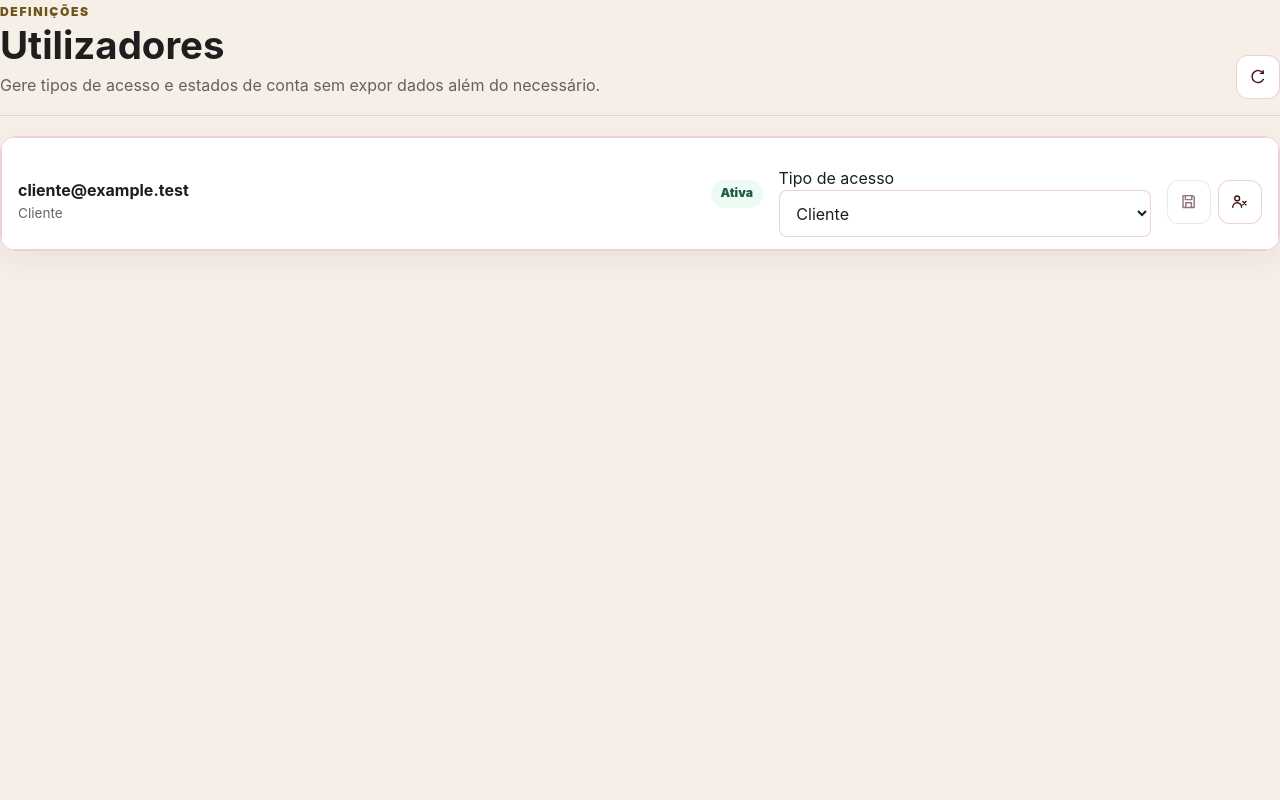
Scenario: AdminUsersPage › mantém linha, estado e modal quando a desativação falha
Check: the heading "cliente@example.test" is shown, box [18, 180, 189, 200]
Click the button named "Desativar conta" at (1240, 202), box [1218, 180, 1262, 224]
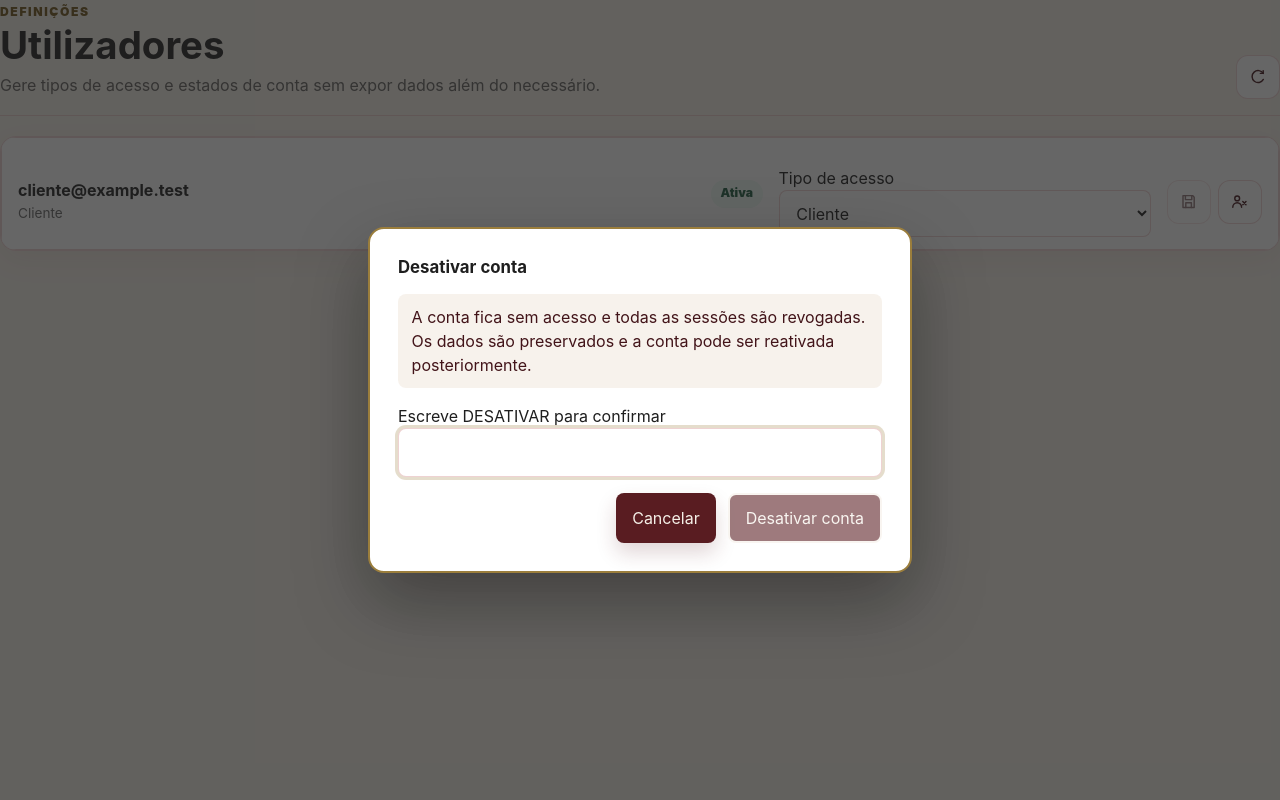
Type "DESATIVAR" into the field labelled "Escreve DESATIVAR para confirmar" at (640, 452), box [398, 428, 882, 477]
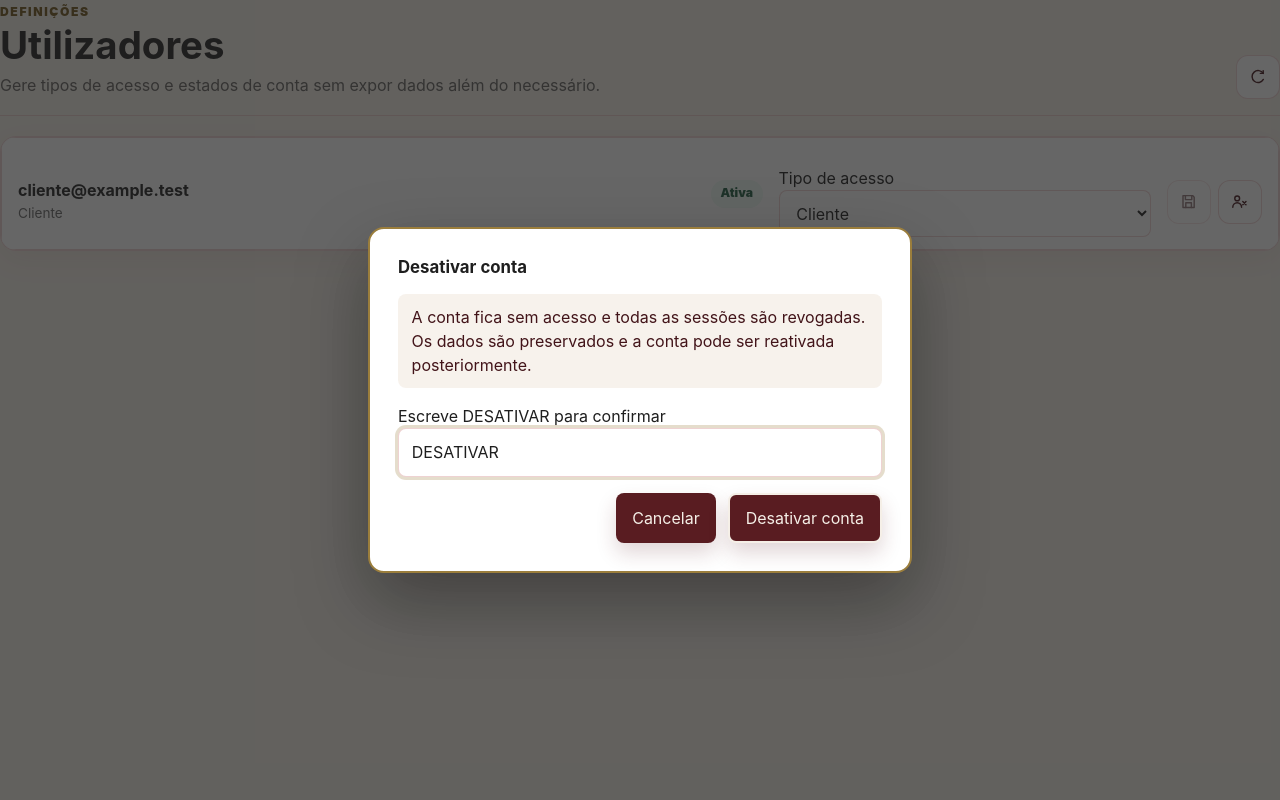
Click the button "Desativar conta" at (805, 518), box [728, 493, 882, 543]
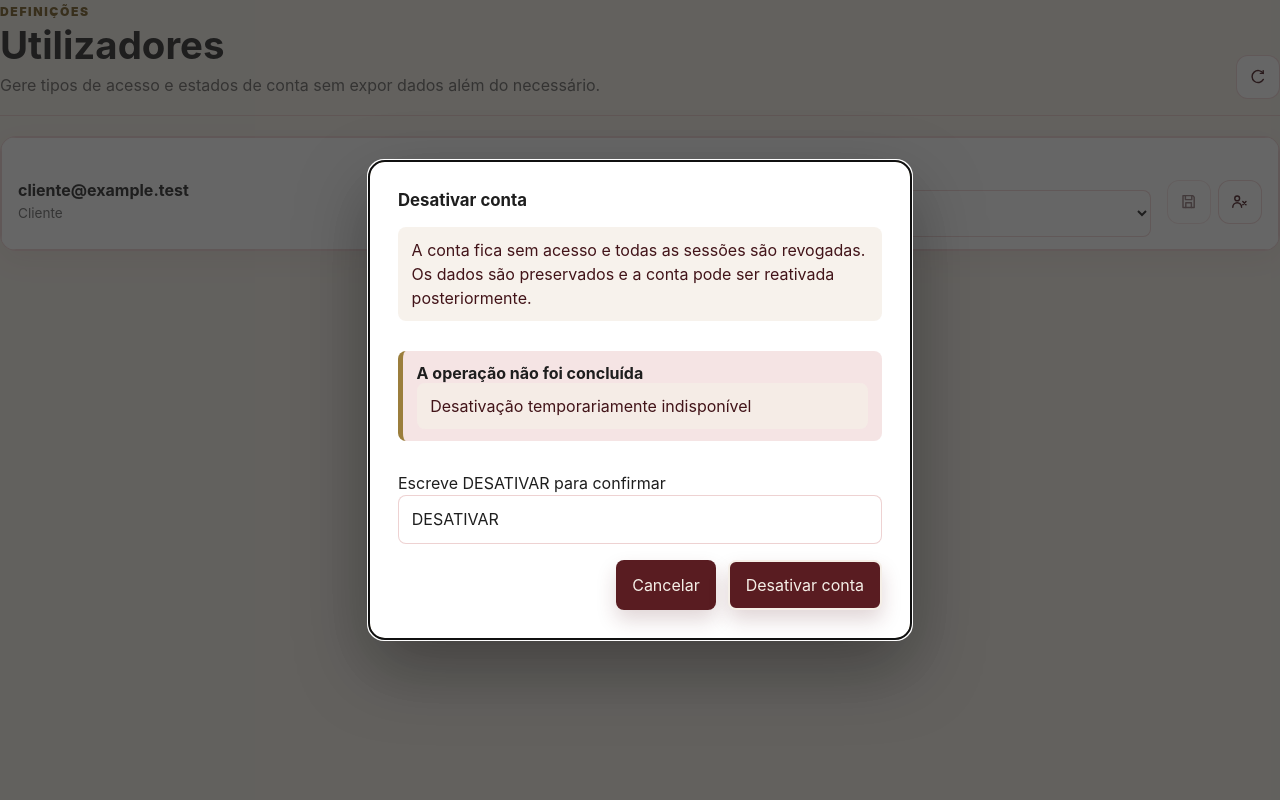
Check: the dialog "Desativar conta" is shown, box [368, 160, 912, 640]
Check: the message shows "Desativação temporariamente indisponível", box [430, 396, 752, 416]
